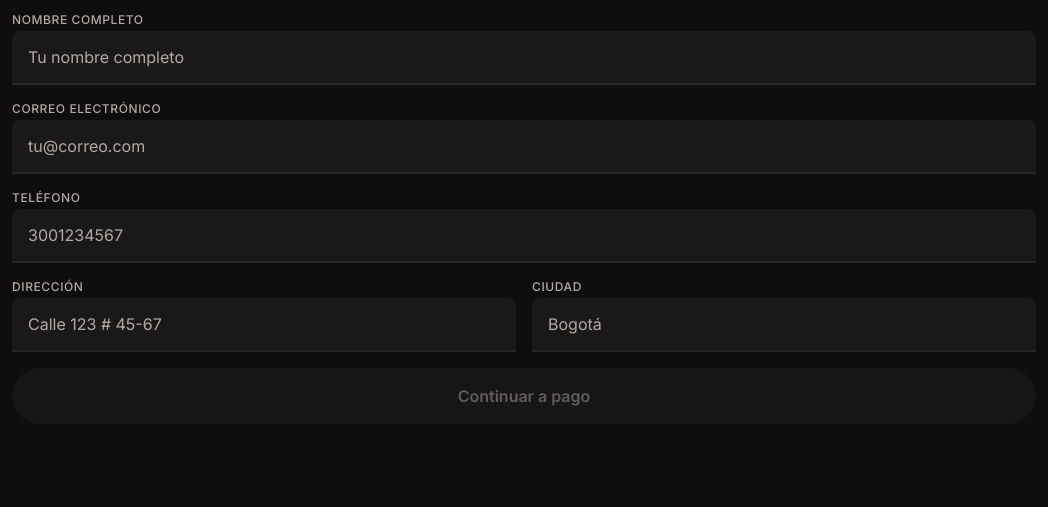
it: DeliveryForm › shows error for invalid email
Type "not-an-email" into the field labelled "Correo electrónico".
click(524, 147); type("not-an-email")  # box [12, 120, 1036, 174]
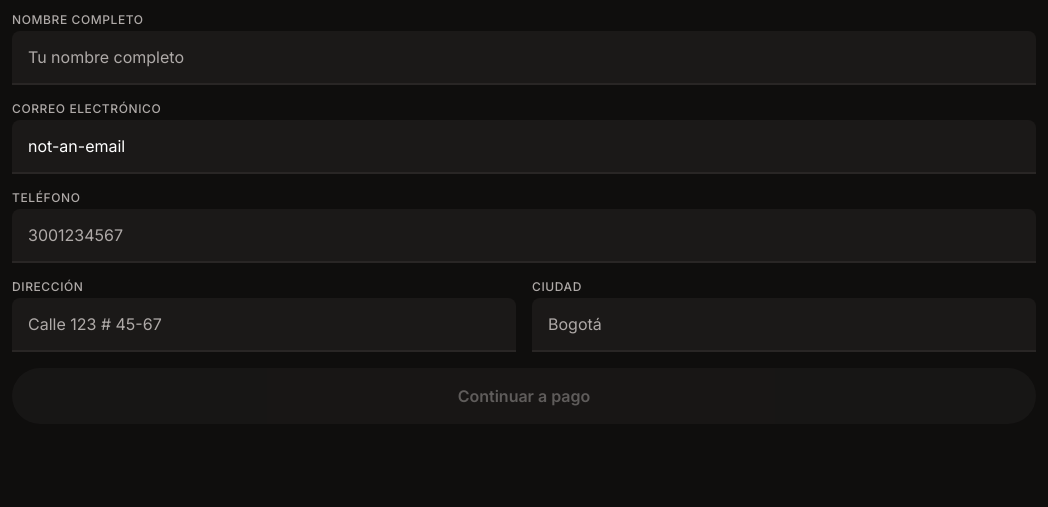
Leave the field labelled "Correo electrónico", box [12, 120, 1036, 174]
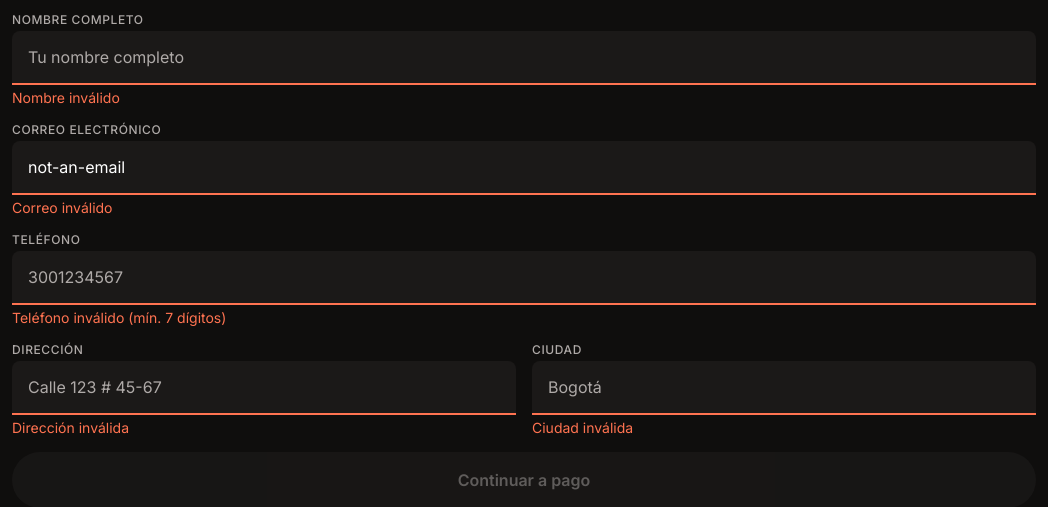
Check: the text "Correo inválido" is shown, box [12, 199, 112, 216]
